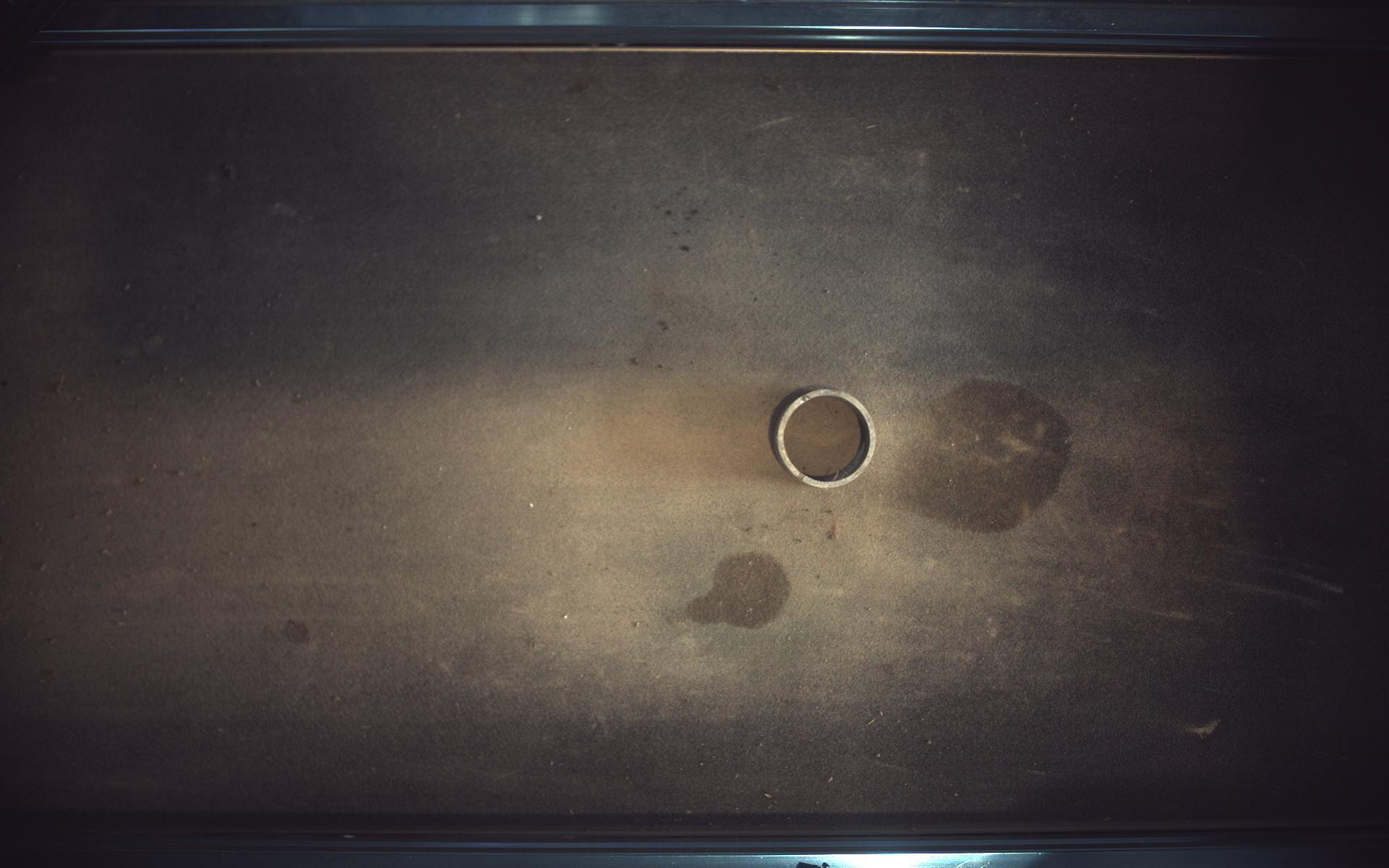pipes: (770, 388, 878, 489)
